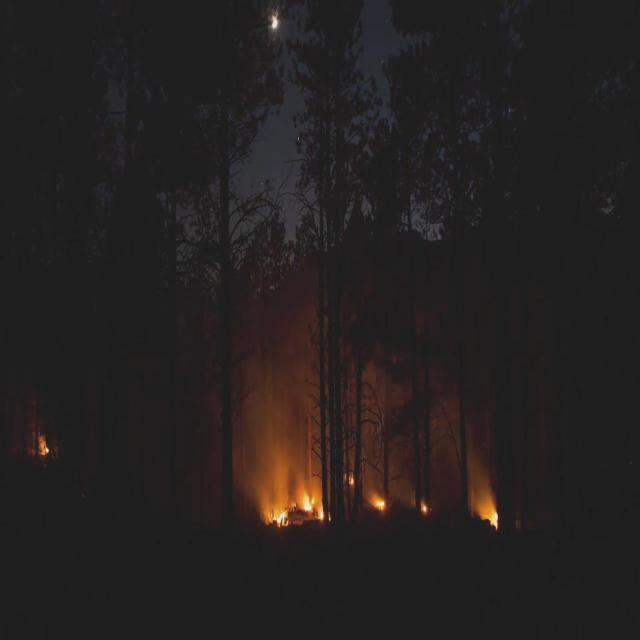Fire: (302, 494, 332, 524), (478, 500, 498, 530), (263, 506, 289, 528), (38, 435, 50, 457), (373, 494, 384, 512), (348, 471, 354, 485), (419, 502, 427, 512)
